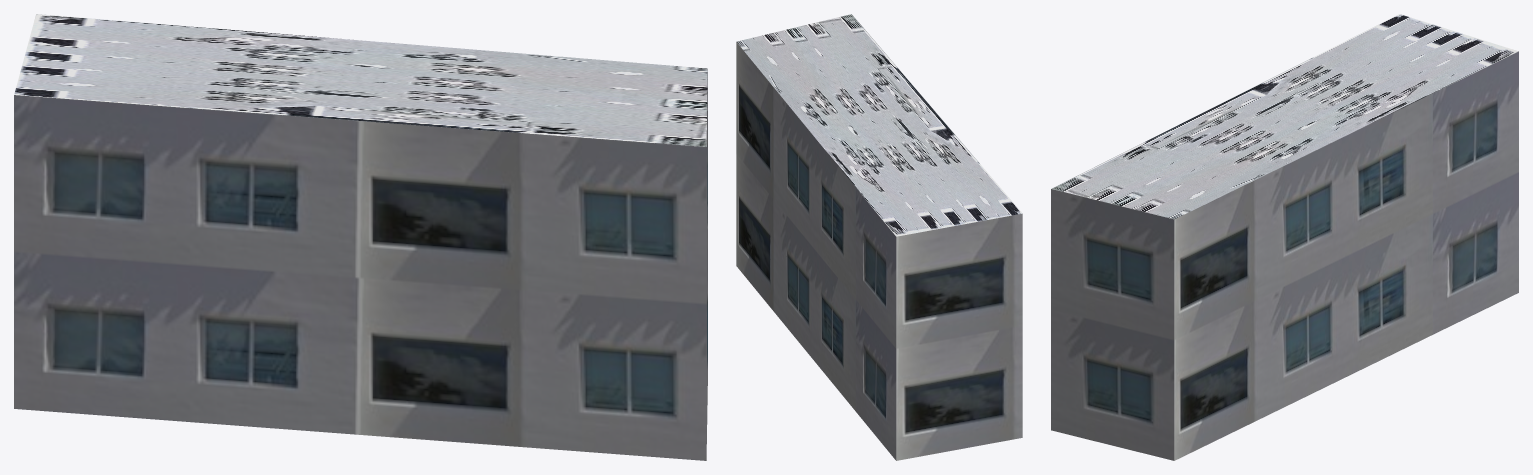
File: ResTex__126.fbx
The picture shows the model from 3 angles, left to right: view 1: azimuth 30°, elevation 25°; view 2: azimuth 150°, elevation 25°; view 3: azimuth 270°, elevation 25°; orthographic projection. The views are drawn at different scales.
Parts seen in each view (by area): view 1: CityEngineMaterial_10_m, CityEngineMaterial_4_m; view 2: CityEngineMaterial_10_m, CityEngineMaterial_4_m; view 3: CityEngineMaterial_10_m, CityEngineMaterial_4_m.
Boxes of the visible parts, x1=… form: CityEngineMaterial_10_m: x1=14, y1=72, x2=707, y2=460; CityEngineMaterial_4_m: x1=14, y1=14, x2=707, y2=146; CityEngineMaterial_10_m: x1=736, y1=42, x2=1022, y2=460; CityEngineMaterial_4_m: x1=736, y1=14, x2=1022, y2=236; CityEngineMaterial_10_m: x1=1051, y1=51, x2=1518, y2=460; CityEngineMaterial_4_m: x1=1051, y1=14, x2=1518, y2=219.
Size of the model in its own units: 10.95 by 6 by 10.53.
2 materials, 2 textured.
